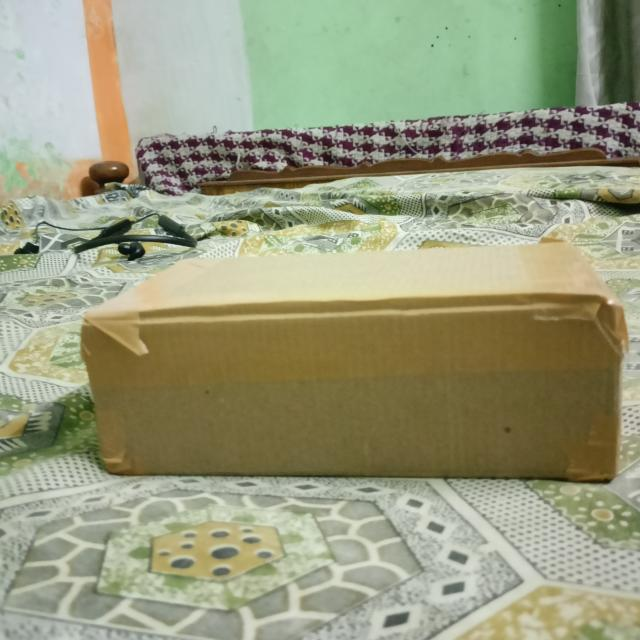box: (83, 305, 615, 485)
